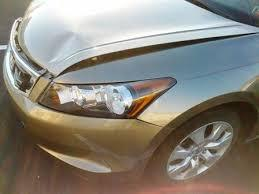bonnet-dent: (18, 3, 177, 70)
front-bumper-dent: (44, 114, 150, 179)
